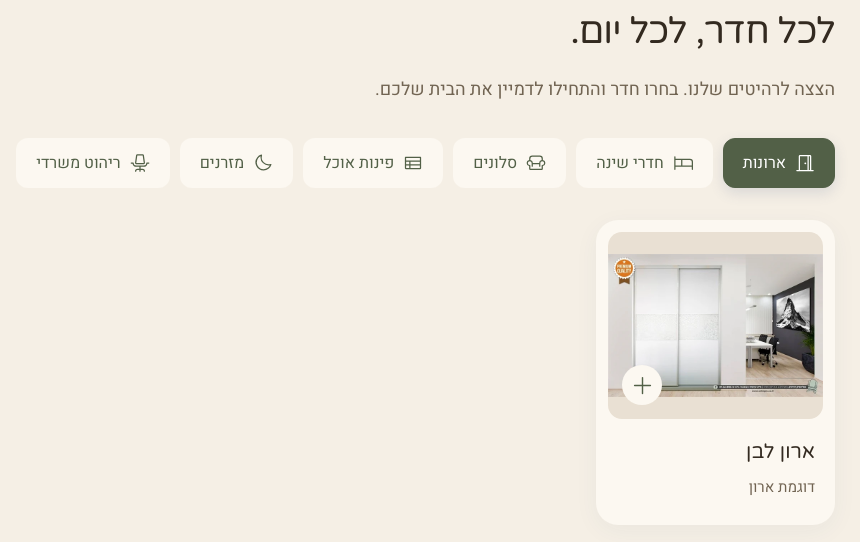
it: furniture browsing › filters published photographs and resets the visible selection on category changes
Expected: the button named "הגדלת תמונה: ארון לבן" is shown, top-left (608, 232), bottom-right (823, 419)
Click the button "סלונים".
click(510, 163)  # box top-left (453, 138), bottom-right (566, 188)
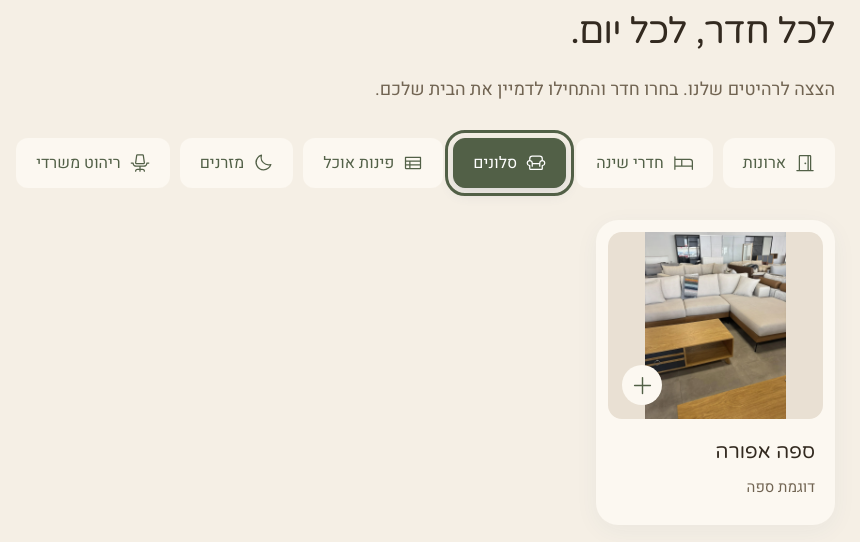
Now the button named "הגדלת תמונה: ספה אפורה" is shown, box top-left (608, 232), bottom-right (823, 419)
Click the button "ארונות".
click(779, 163)  # box top-left (723, 138), bottom-right (835, 188)
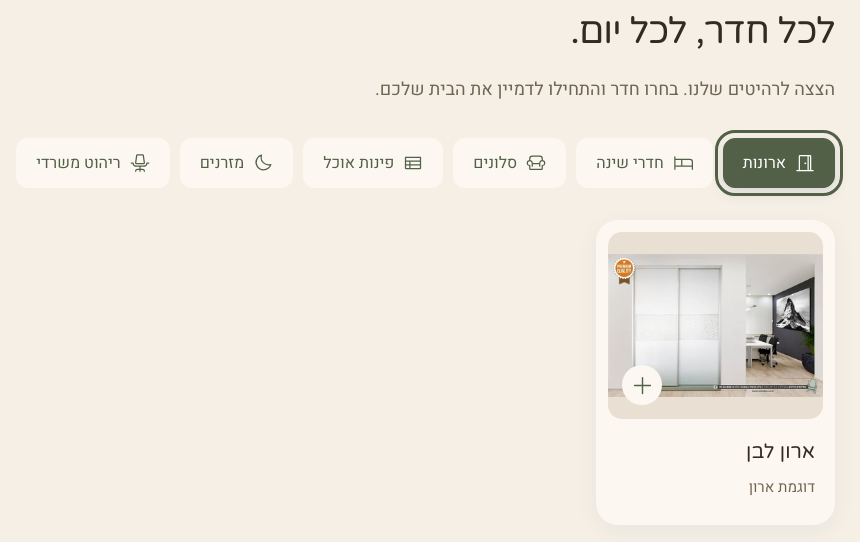
Now the button named "הגדלת תמונה: ארון לבן" is shown, box top-left (608, 232), bottom-right (823, 419)
